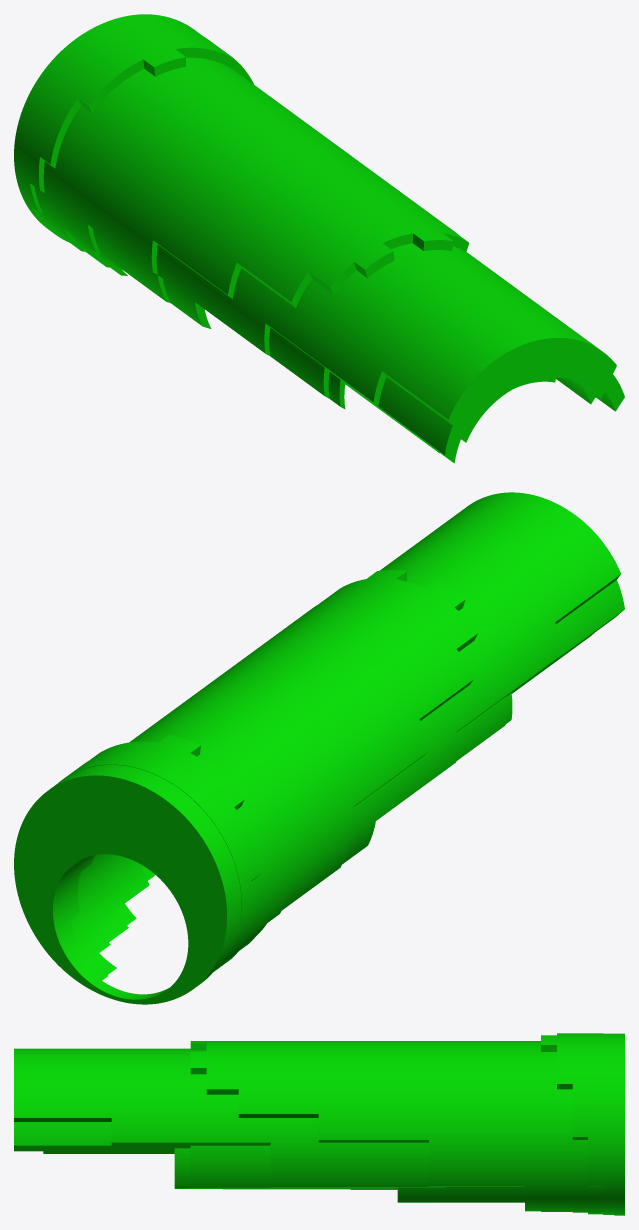
Rendered from fluid2.glb.
3 views of the same model, one above another, from view 1: azimuth 30°, elevation 25°; view 2: azimuth 150°, elevation 25°; view 3: azimuth 270°, elevation 25° (orthographic). The views are drawn at different scales.
Parts seen in each view (by area): view 1: world; view 2: world; view 3: world.
Part boxes in pixels (x1,y1,x2,y2): world: [14, 14, 624, 463]; world: [14, 492, 624, 1004]; world: [14, 1033, 624, 1215].
Size of the model in its own units: 0.2204 by 0.2201 by 0.738.
